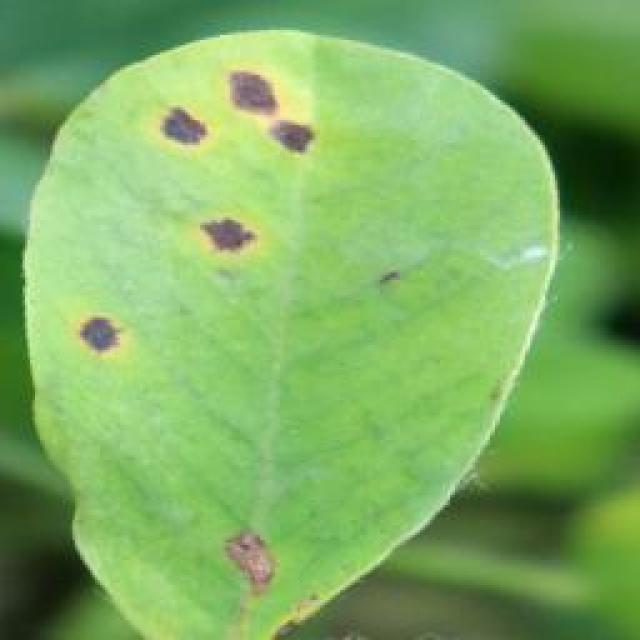Yellowish: (125, 61, 330, 290), (213, 514, 317, 640), (72, 292, 144, 390)
